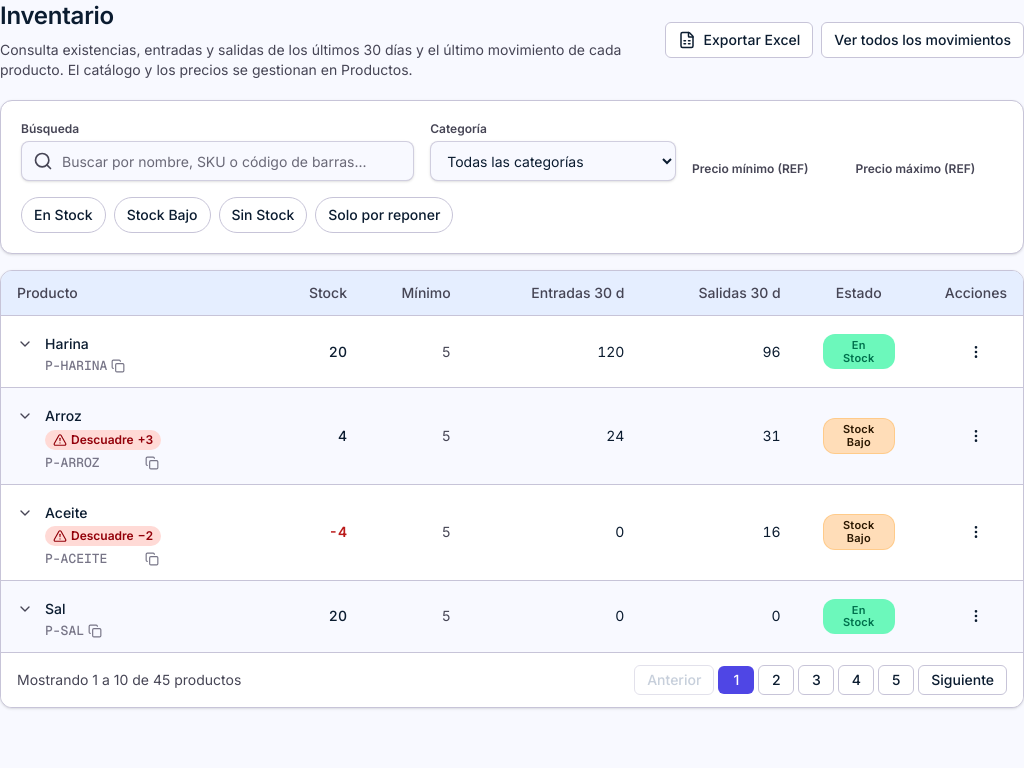
InventoryListPage · vista única de stock › movimientos en línea › passes the reconciliation diff of the row to the panel
The width and height of the screenshot is (1024, 768).
Step 1. Click the button named "Ver movimientos de Arroz" → click(25, 416), box 9,400 -> 41,432
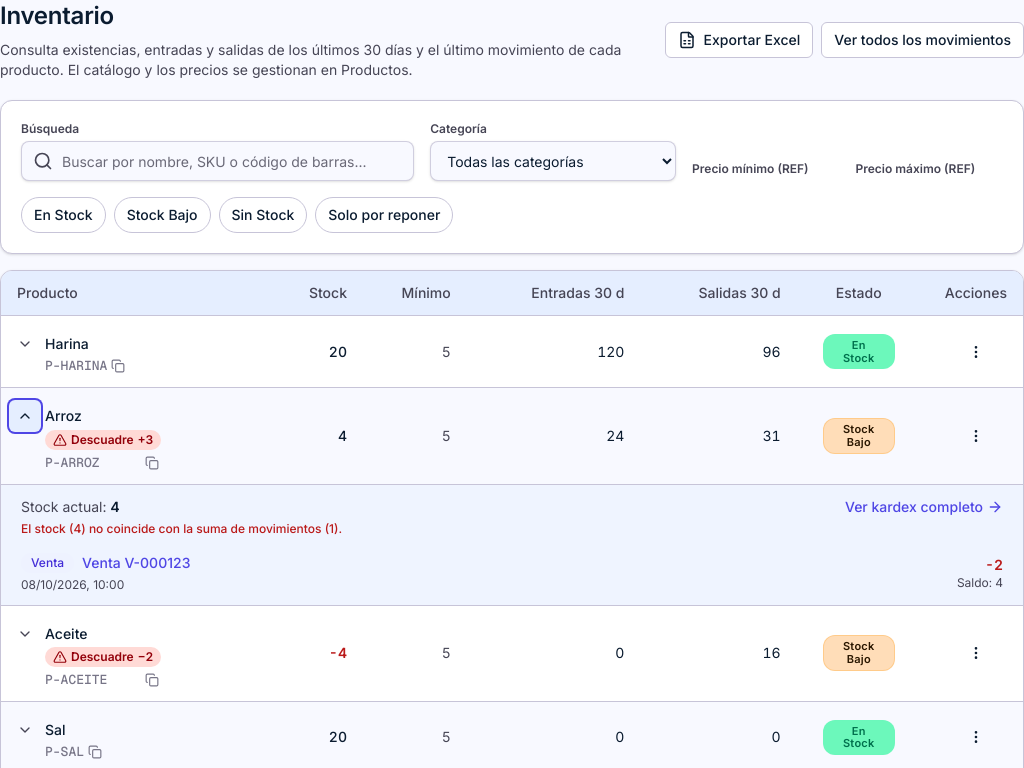
Check: the text "El stock (4) no coincide con la suma de movimientos (1)." is shown, box 21,520 -> 342,536
